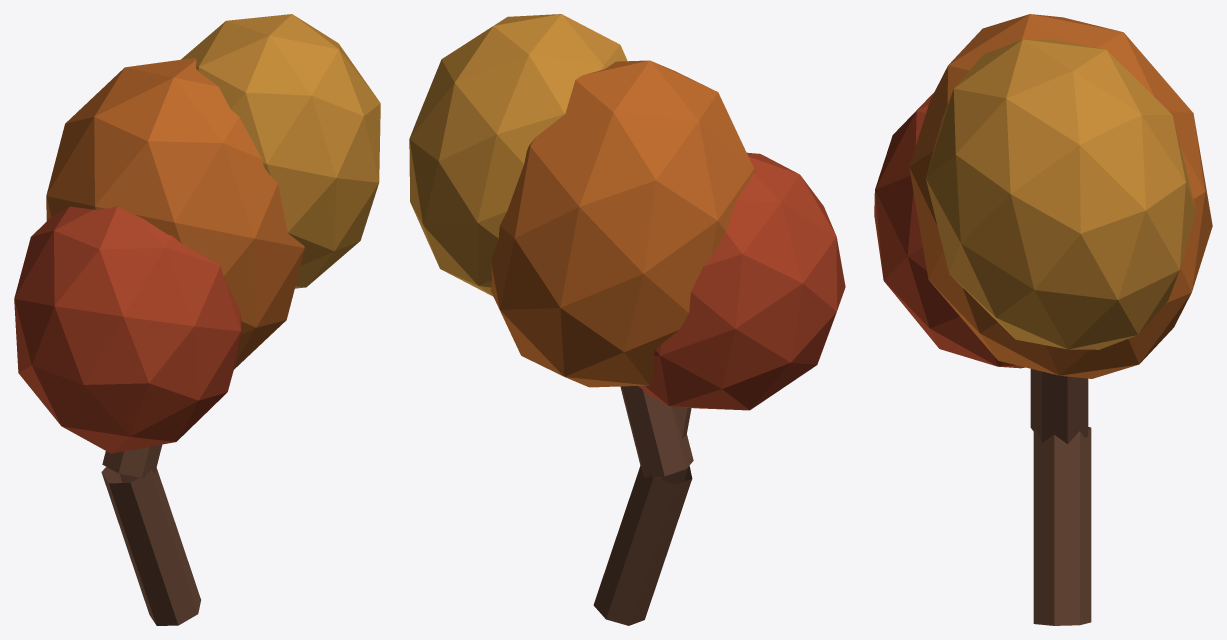
The picture shows the model from 3 angles, left to right: view 1: azimuth 30°, elevation 25°; view 2: azimuth 150°, elevation 25°; view 3: azimuth 270°, elevation 25°; orthographic projection. The views are drawn at different scales.
Visible parts, largest first — view 1: T09_金叶小乔木; view 2: T09_金叶小乔木; view 3: T09_金叶小乔木.
Part boxes in pixels (box(x1,y1,x2,y2)): T09_金叶小乔木: box(14, 14, 380, 625); T09_金叶小乔木: box(409, 14, 845, 625); T09_金叶小乔木: box(874, 14, 1212, 625).
Size of the model in its own units: 1.42 by 2.07 by 1.
